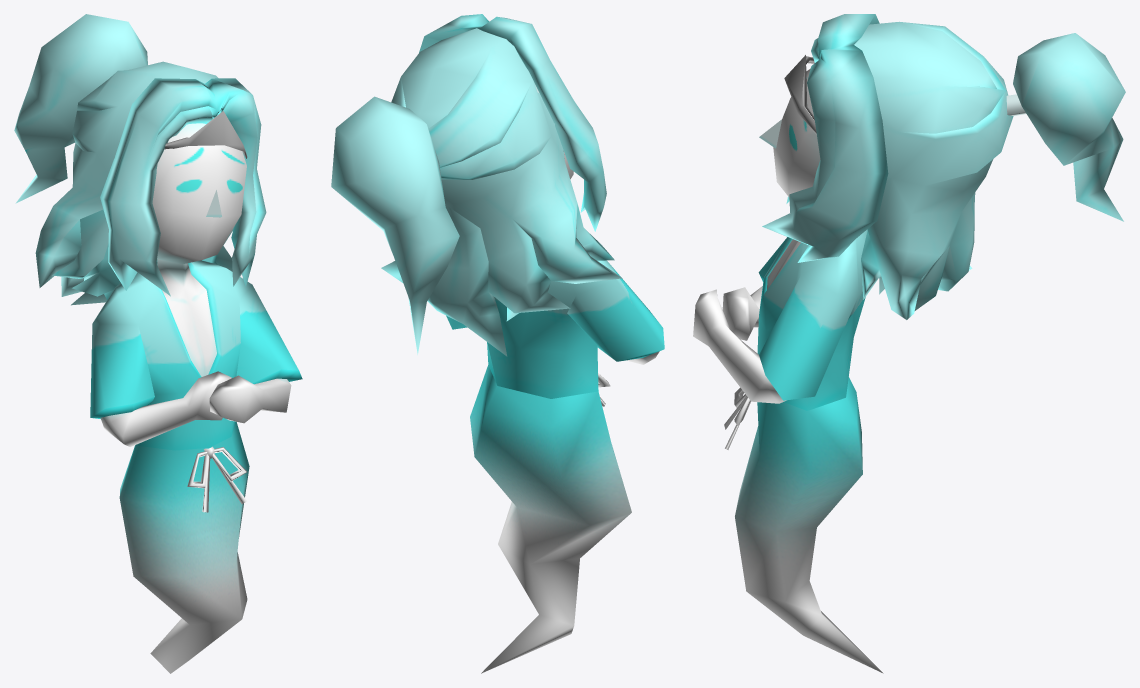
The model's file is urasimasoul.fbx.
The picture shows the model from 3 angles, left to right: view 1: azimuth 30°, elevation 25°; view 2: azimuth 150°, elevation 25°; view 3: azimuth 270°, elevation 25°; orthographic projection. The views are drawn at different scales.
Parts seen in each view (by area): view 1: urasimasoul; view 2: urasimasoul; view 3: urasimasoul.
Boxes of the visible parts, left/top/right/bottom form: urasimasoul: left=14, top=14, right=302, bottom=673; urasimasoul: left=331, top=14, right=664, bottom=673; urasimasoul: left=693, top=14, right=1125, bottom=673.
Size of the model in its own units: 26.55 by 68.84 by 41.66.
2 materials, 1 textured.
